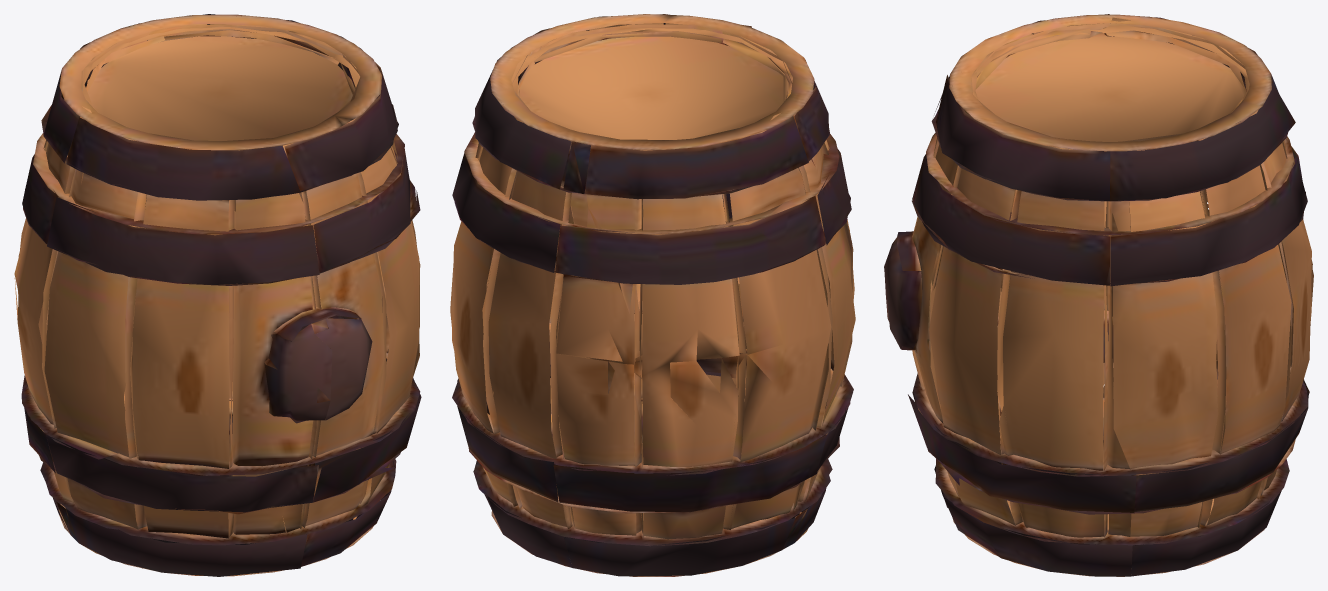
Rendered from barrel_2.glb.
The picture shows the model from 3 angles, left to right: view 1: azimuth 30°, elevation 25°; view 2: azimuth 150°, elevation 25°; view 3: azimuth 270°, elevation 25°; orthographic projection.
Visible parts, largest first — view 1: Mesh_0; view 2: Mesh_0; view 3: Mesh_0.
Part boxes in pixels (bbox=[...]): Mesh_0: bbox=[14, 14, 421, 576]; Mesh_0: bbox=[450, 14, 855, 576]; Mesh_0: bbox=[884, 14, 1313, 576].
Bounding box in the file's own units: 0.6131 × 0.7094 × 0.6406.
1 material, 1 textured.
